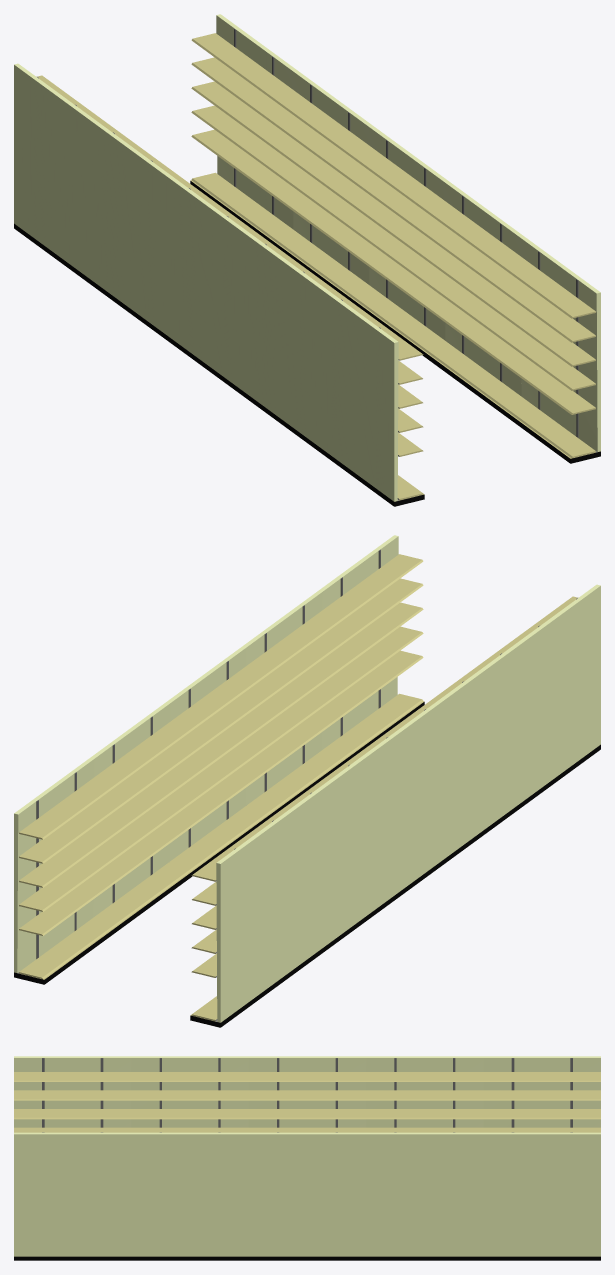
The model's file is shelves.obj.
The picture shows the model from 3 angles, top to bottom: view 1: azimuth 30°, elevation 25°; view 2: azimuth 150°, elevation 25°; view 3: azimuth 270°, elevation 25°; orthographic projection. The views are drawn at different scales.
Visible parts, largest first — view 1: Shelves01; view 2: Shelves01; view 3: Shelves01.
Part boxes in pixels (box(x1,y1,x2,y2)): Shelves01: box(14, 14, 600, 506); Shelves01: box(14, 535, 600, 1027); Shelves01: box(14, 1056, 600, 1260).
Size of the model in its own units: 283 by 215 by 903.
